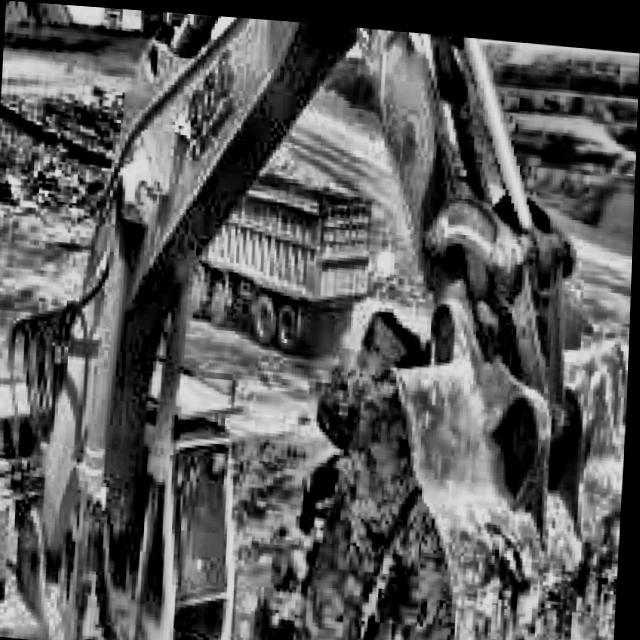dump_truck: (185, 160, 370, 352)
excavator: (0, 0, 640, 640)
